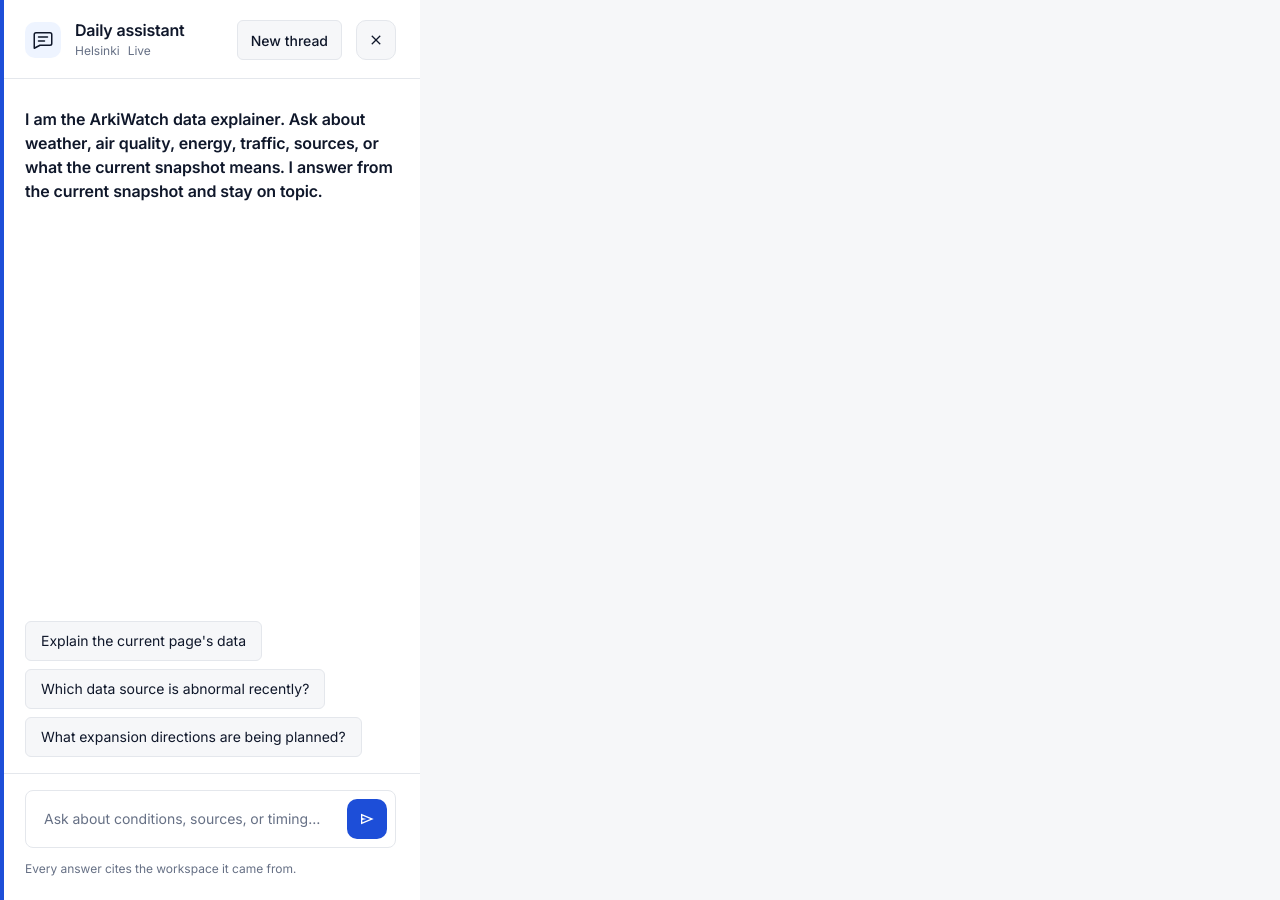
Test case: AssistantRetryButton › acknowledges helpful feedback on a cited answer
In the field named "Ask about platform data": (190, 819) x1=42 y1=799 x2=337 y2=839, type "How is the weather?"
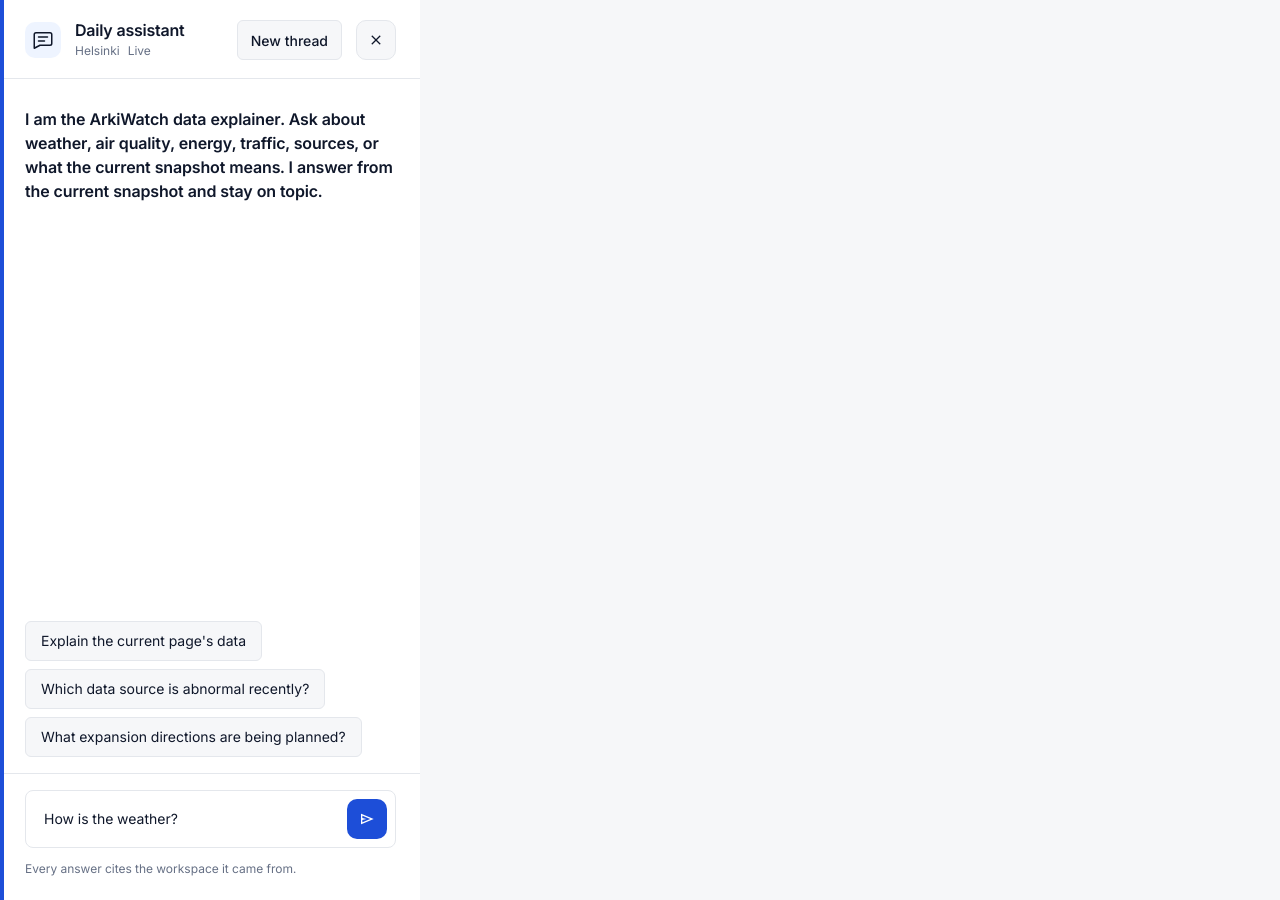
Submit the form named "Ask about platform data", box x1=1 y1=773 x2=420 y2=899
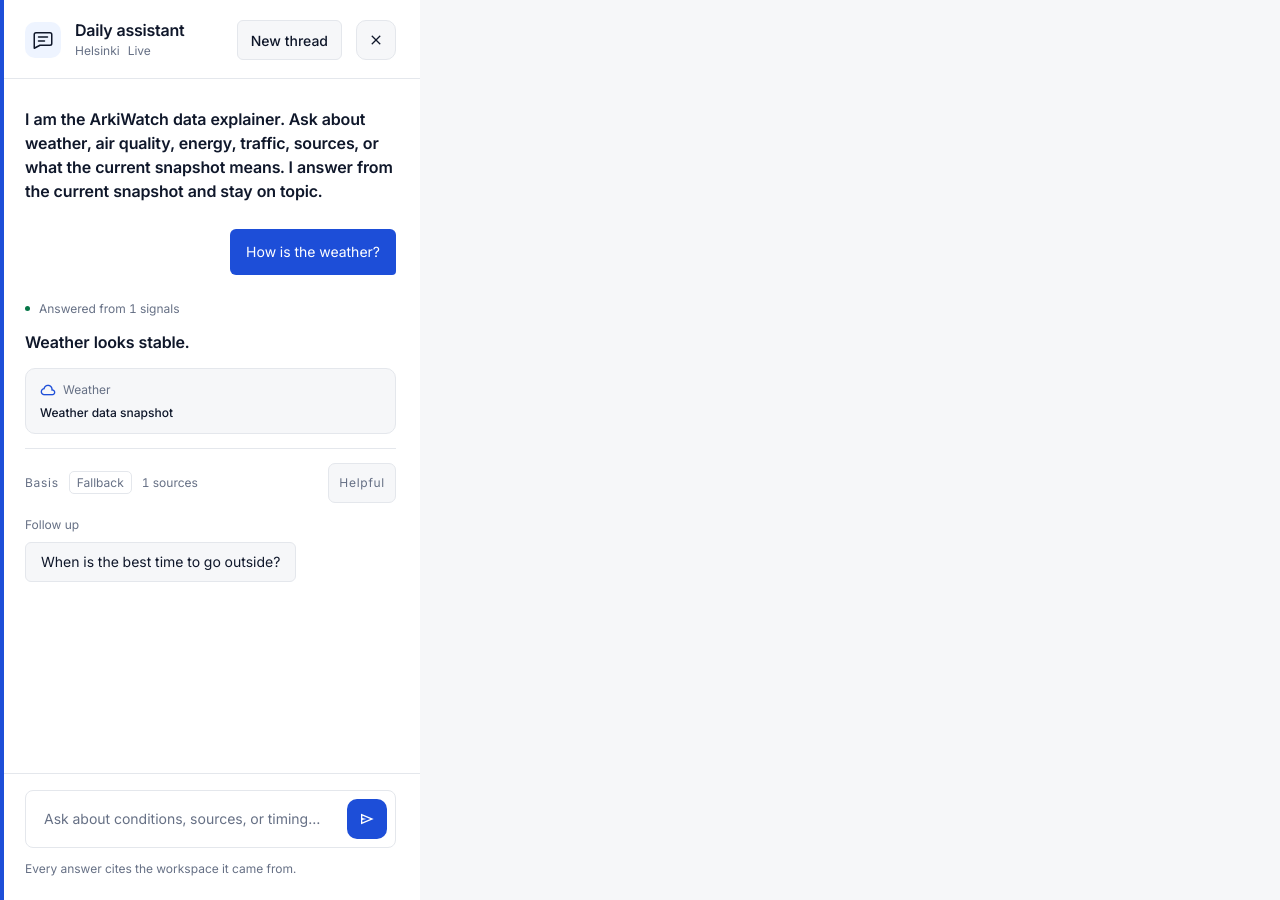
Result: the button with aria-label "Open Weather workspace" is shown at x1=25 y1=368 x2=396 y2=434
Click the button "Helpful": (362, 483) x1=328 y1=463 x2=396 y2=503
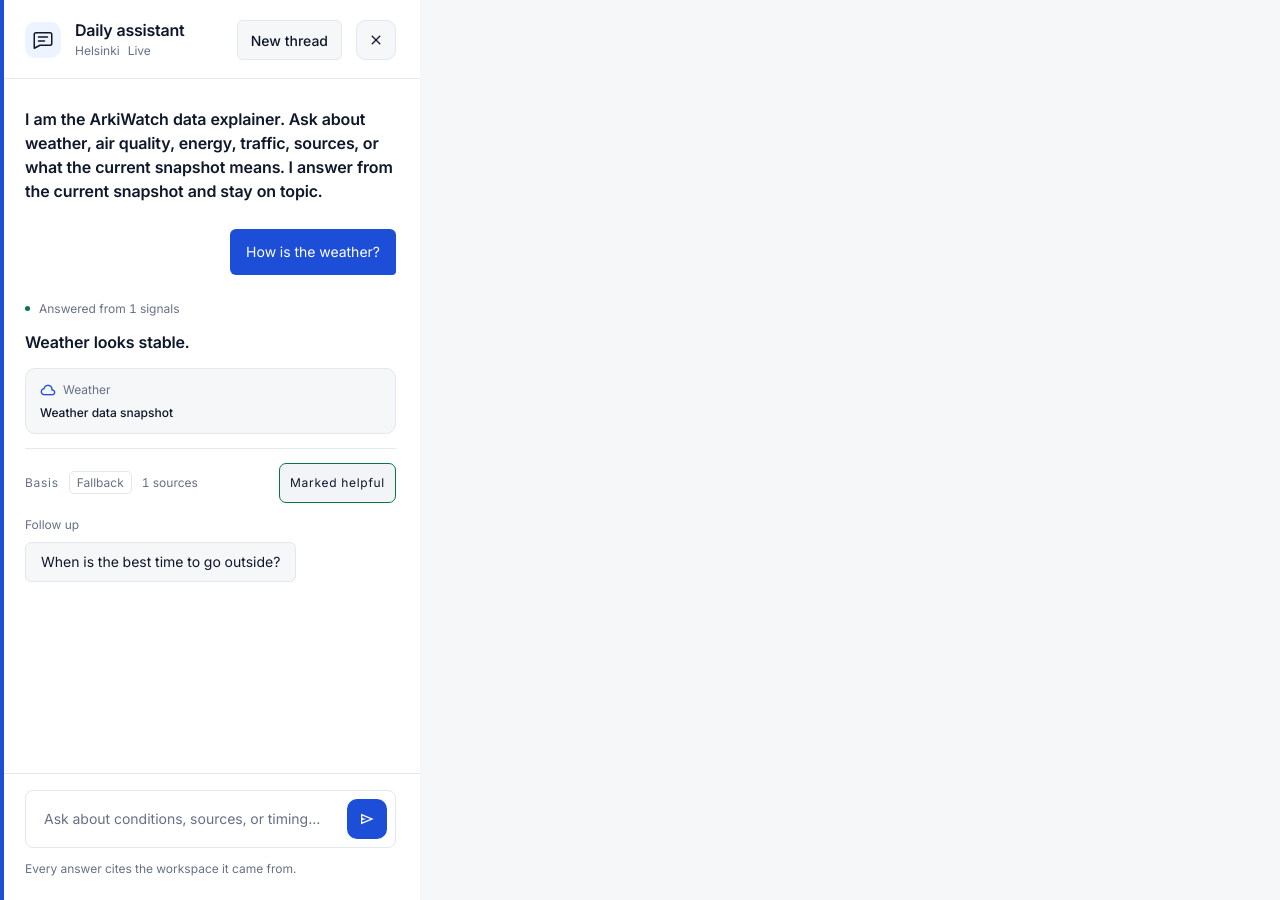
Result: the button "Marked helpful" is pressed at x1=279 y1=463 x2=396 y2=503
